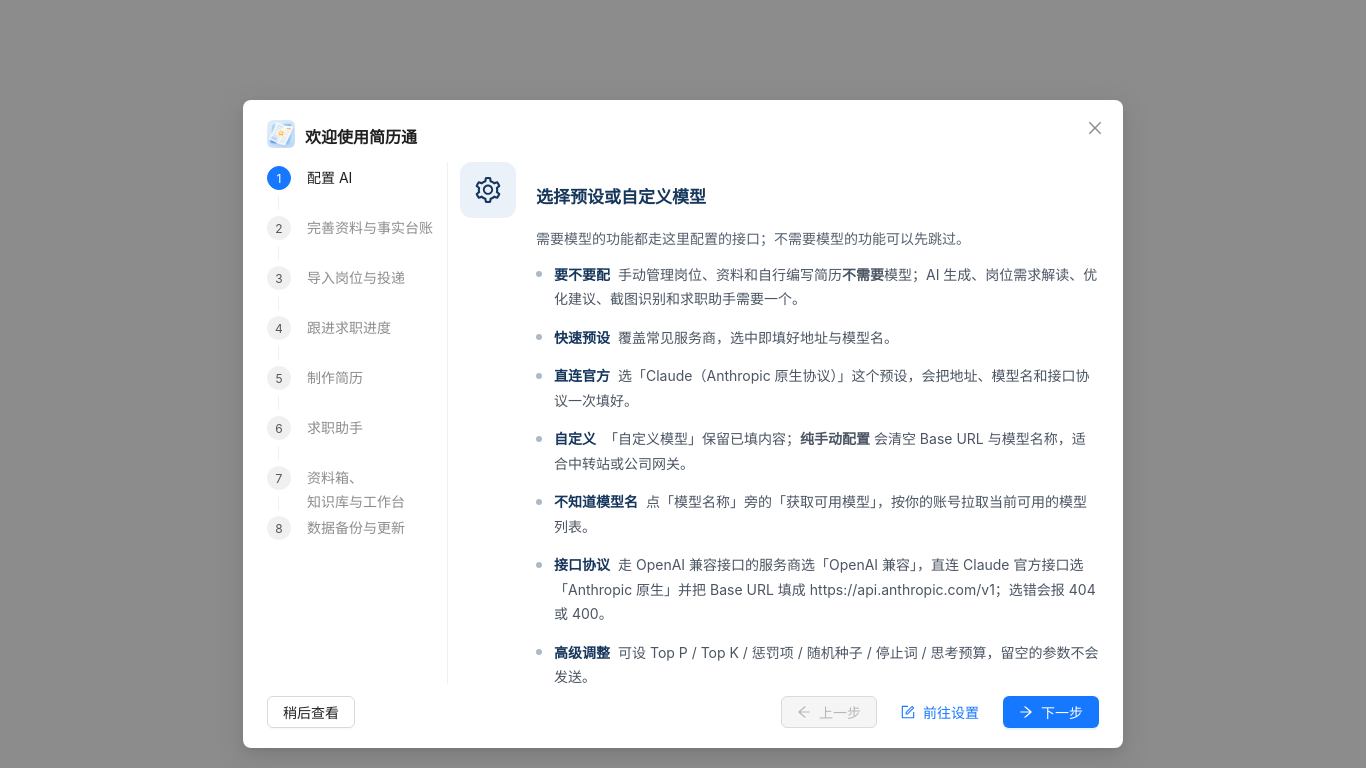
Test: UserGuideModal › explains manual entry, auto collection and the apply board on the job step
Click the button "下一步" at [1051, 712], box [1003,696,1099,728]
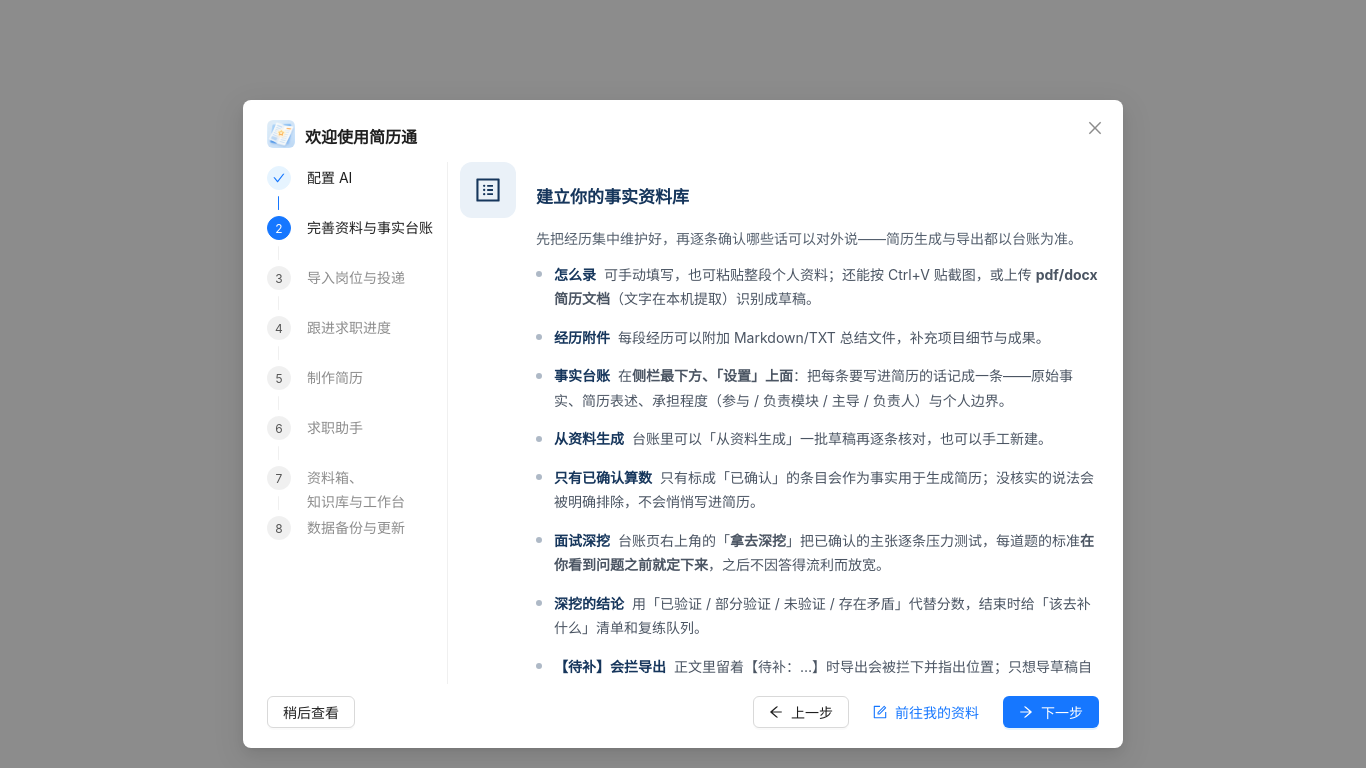
Click the button "下一步" at [1051, 712], box [1003,696,1099,728]
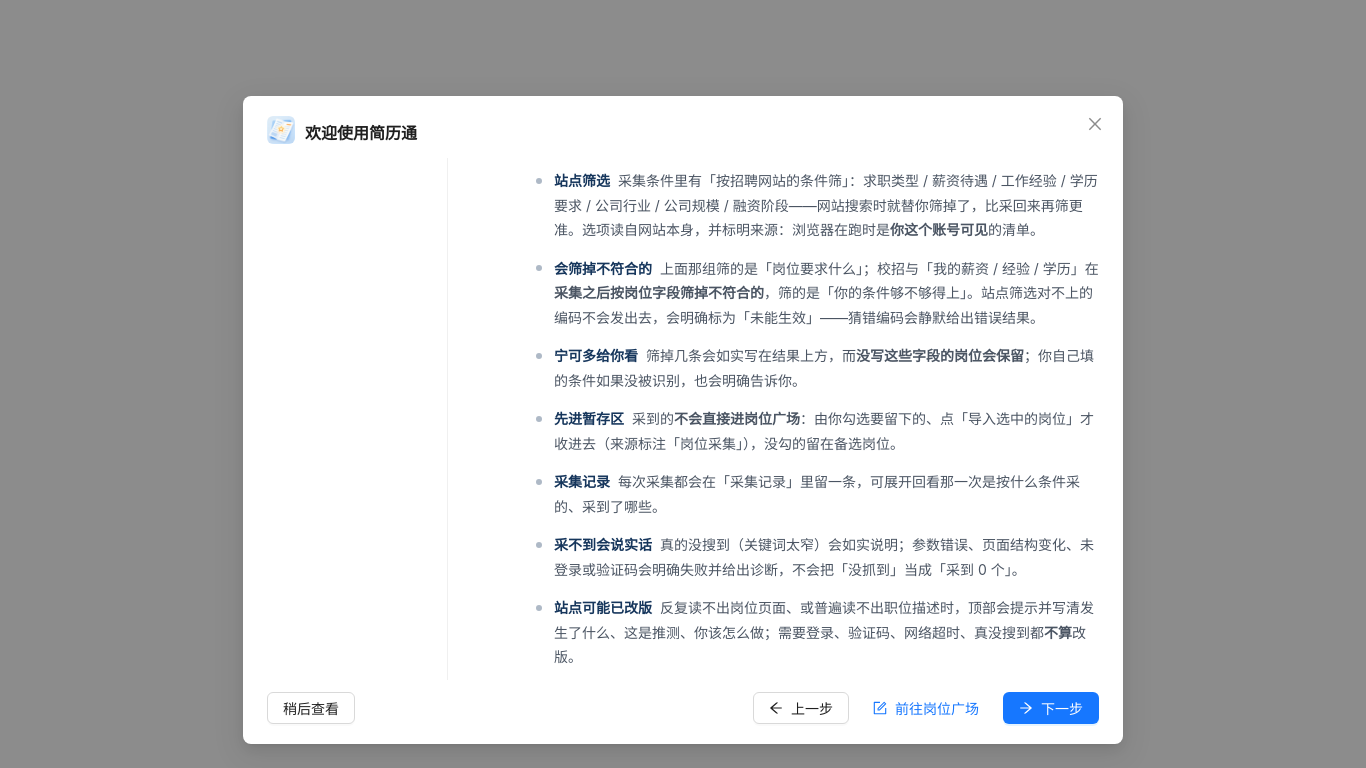
Expected: the text "采集之后按岗位字段筛掉不符合的" is shown, [554,284,764,301]
Expected: the text "不会直接进岗位广场" is shown, [674,410,800,427]
